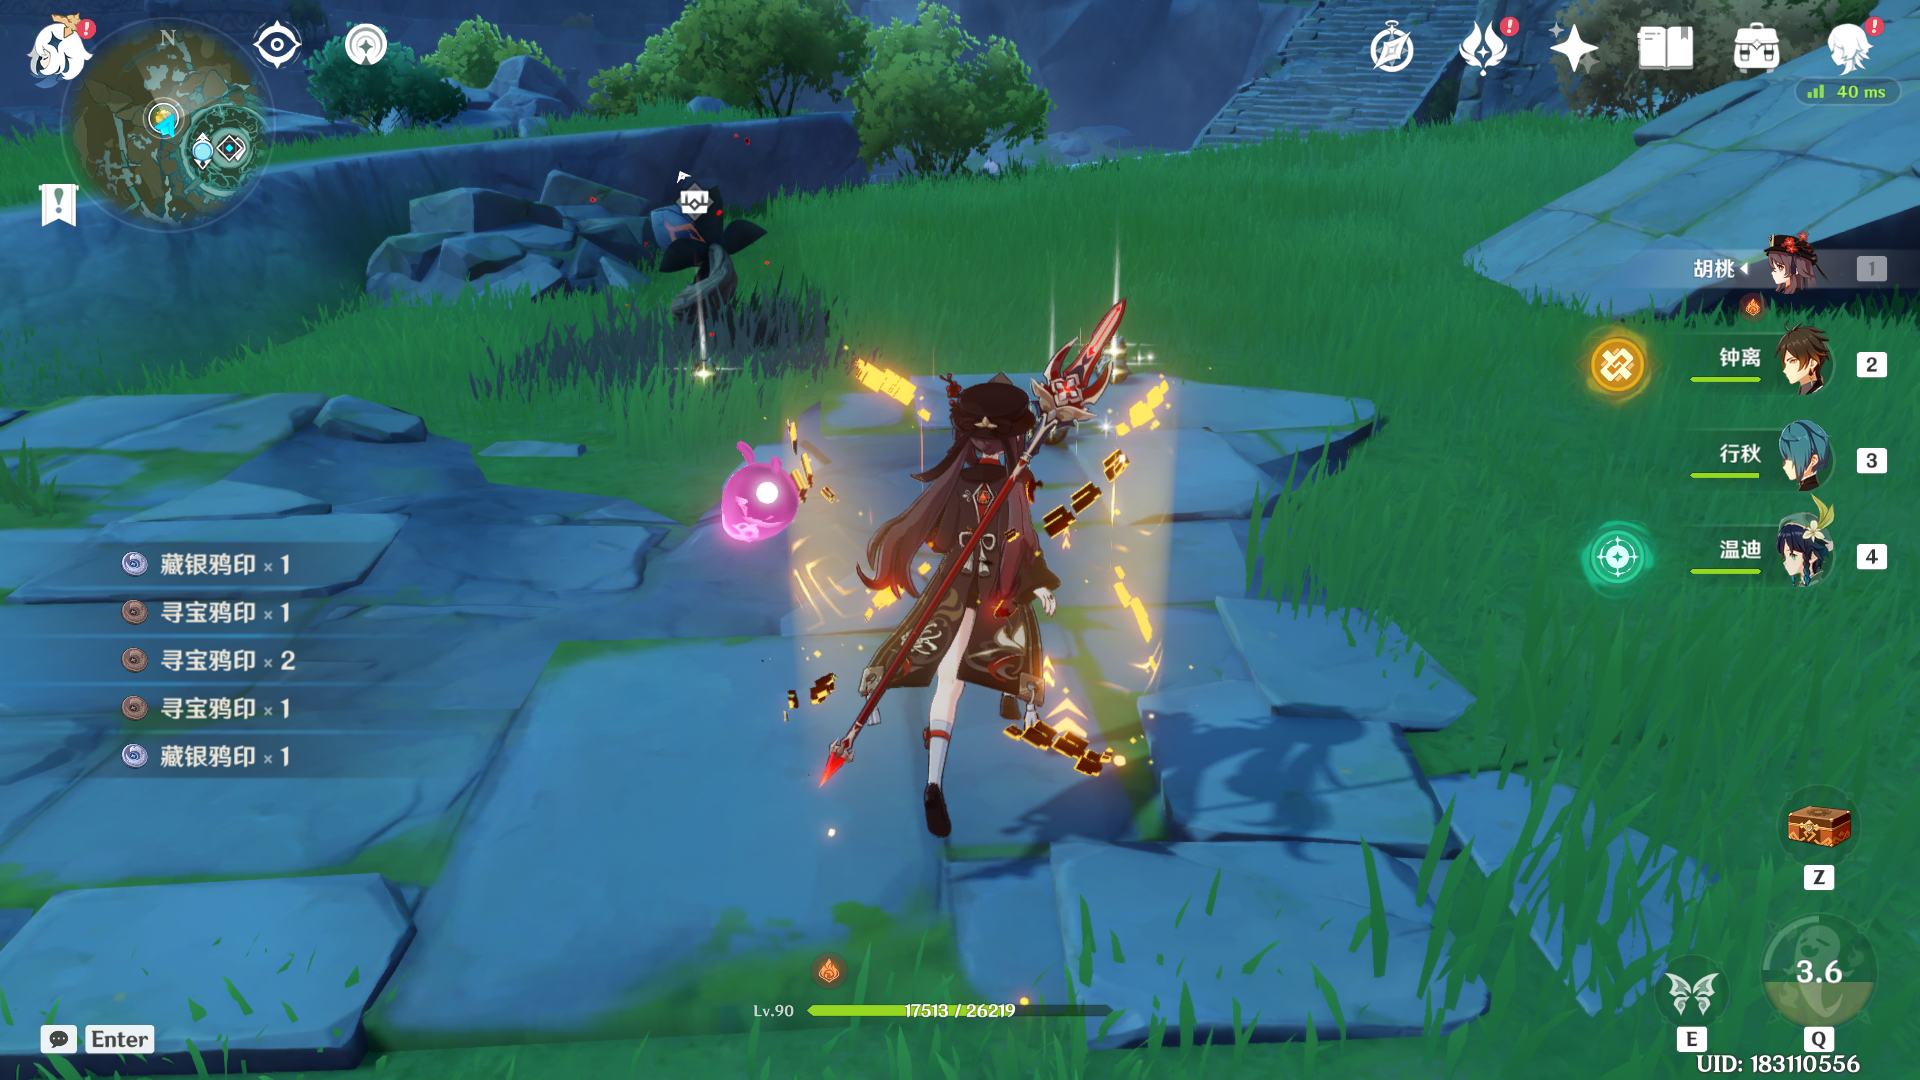character: (775, 324, 1189, 898)
